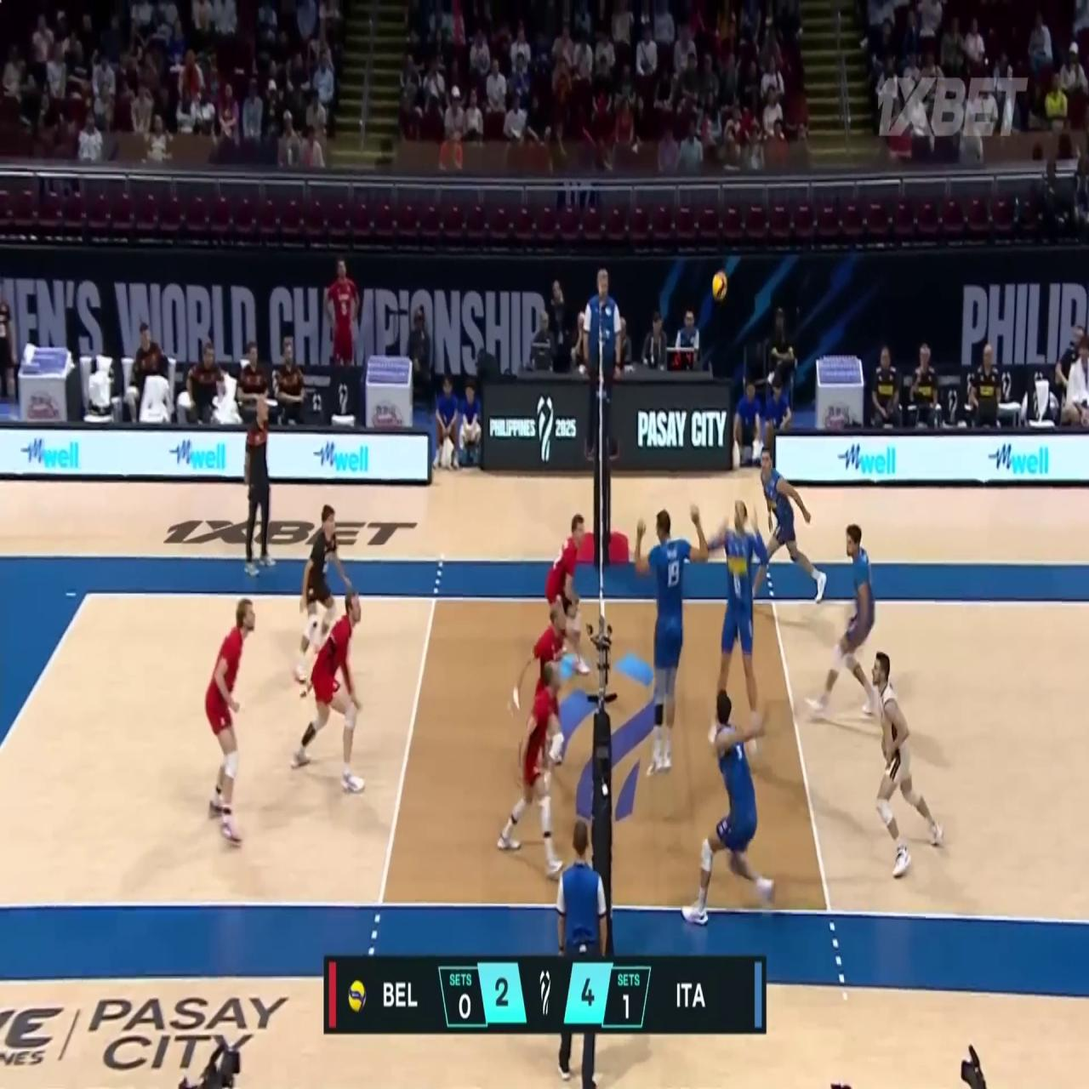ball: (712, 270, 727, 301)
